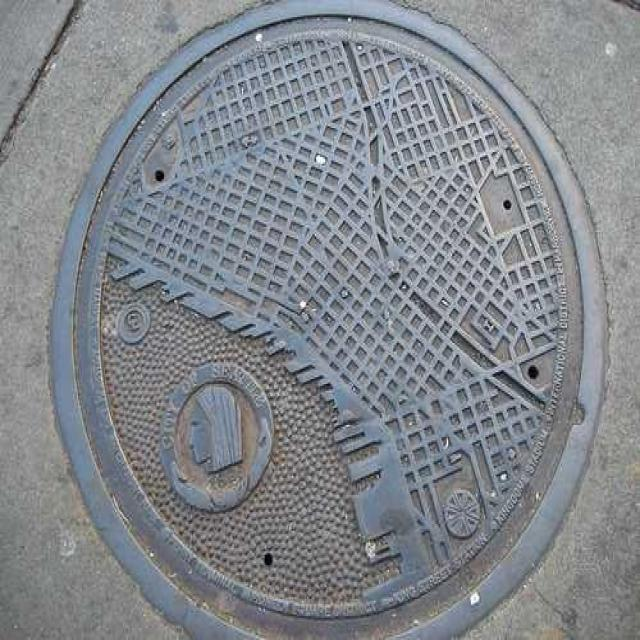manhole: (51, 3, 605, 637)
